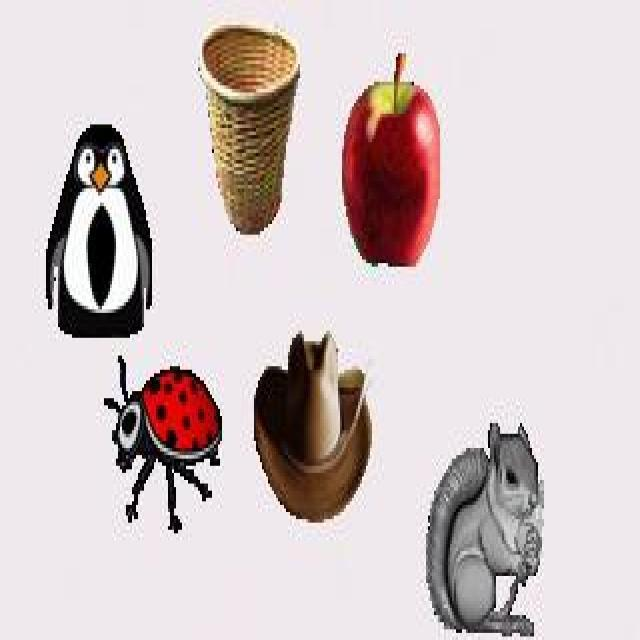Other Objects: (253, 330, 373, 524), (198, 21, 301, 236), (342, 50, 440, 267), (105, 354, 222, 532)
